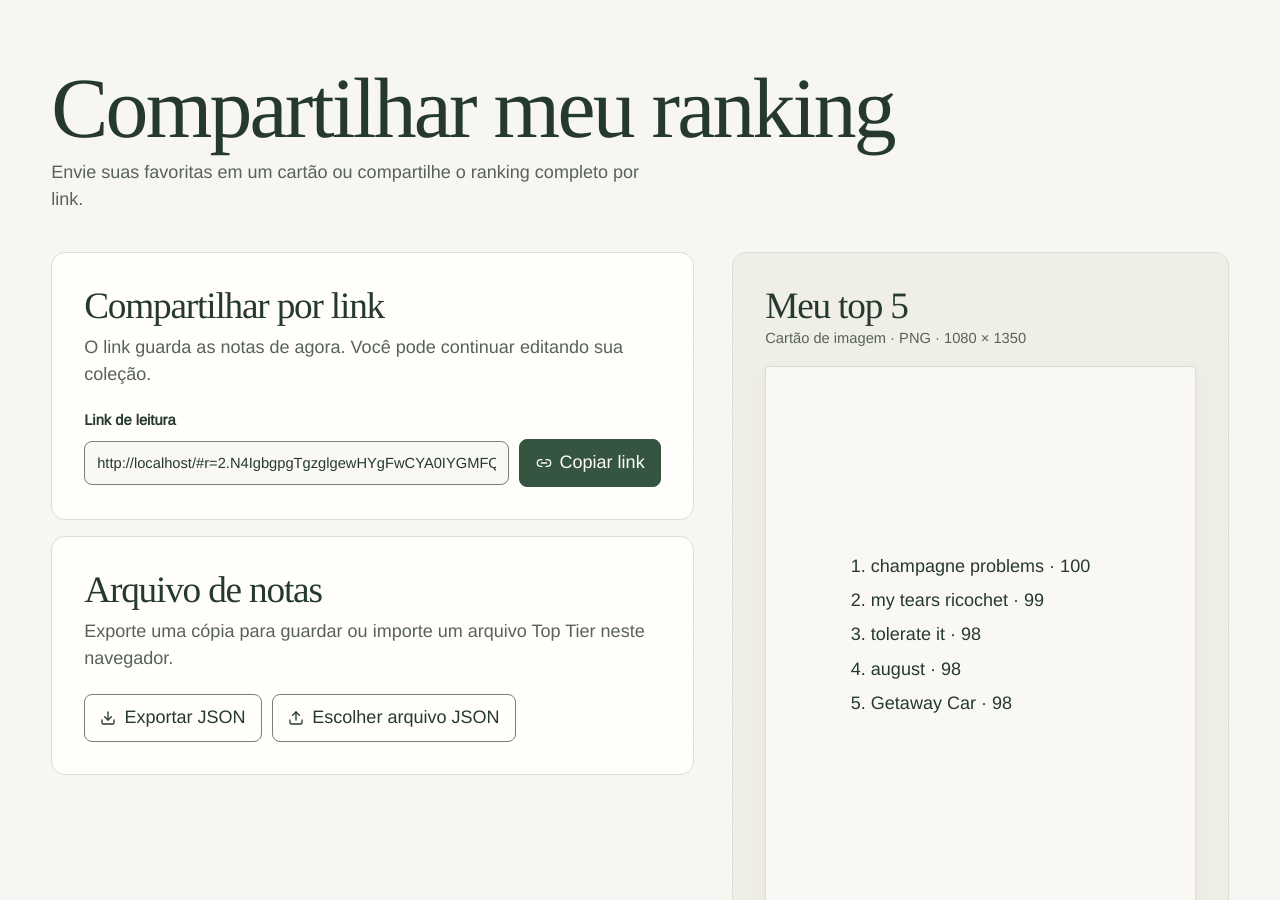
Scenario: sharing from my collection › copies a complete snapshot and offers a JSON file
Later steps or results of the test are not shown.
Click the button "Copiar link" at x=590, y=463, box [519,439,661,487]
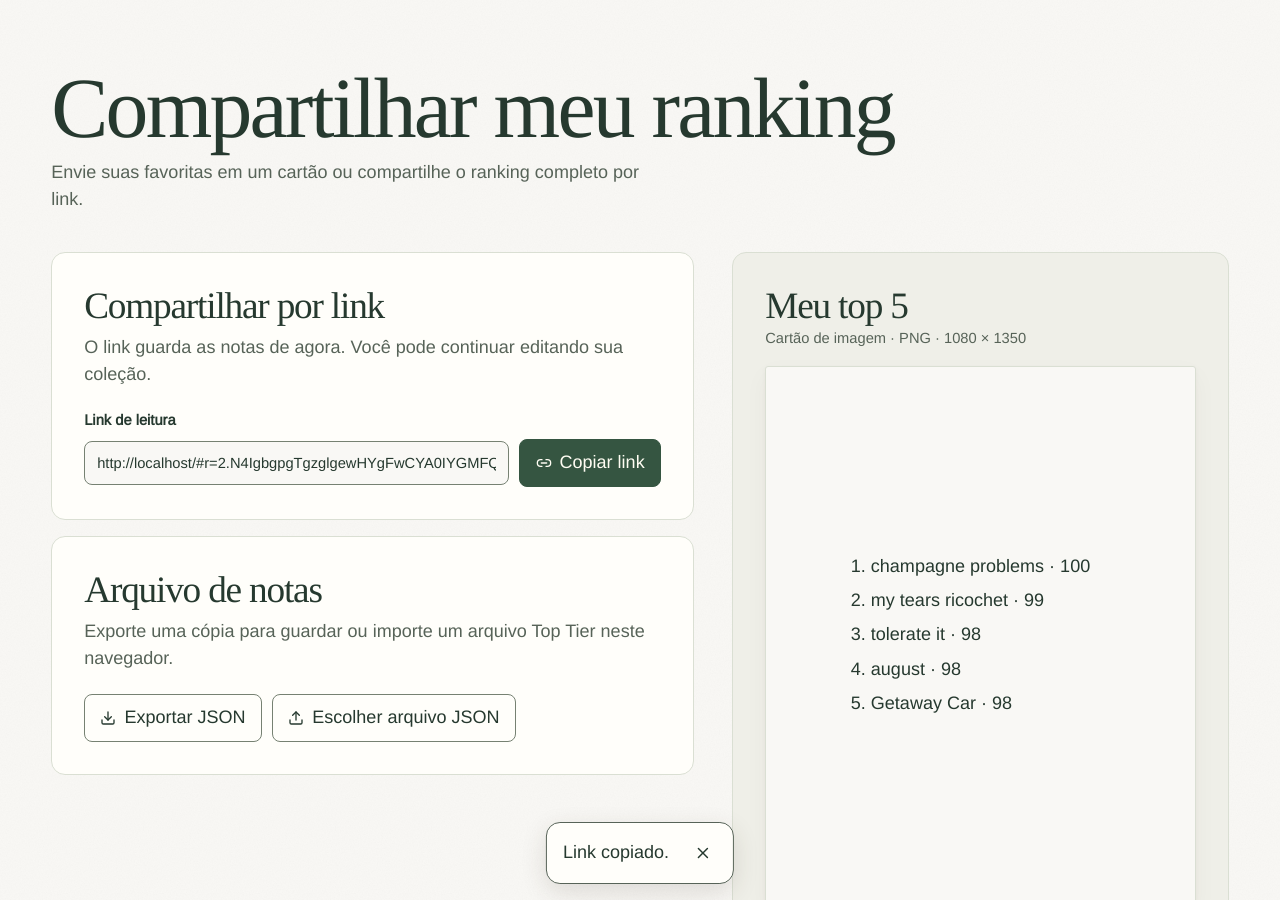
Expected: the text "Link copiado." is shown, [563,839,669,867]
